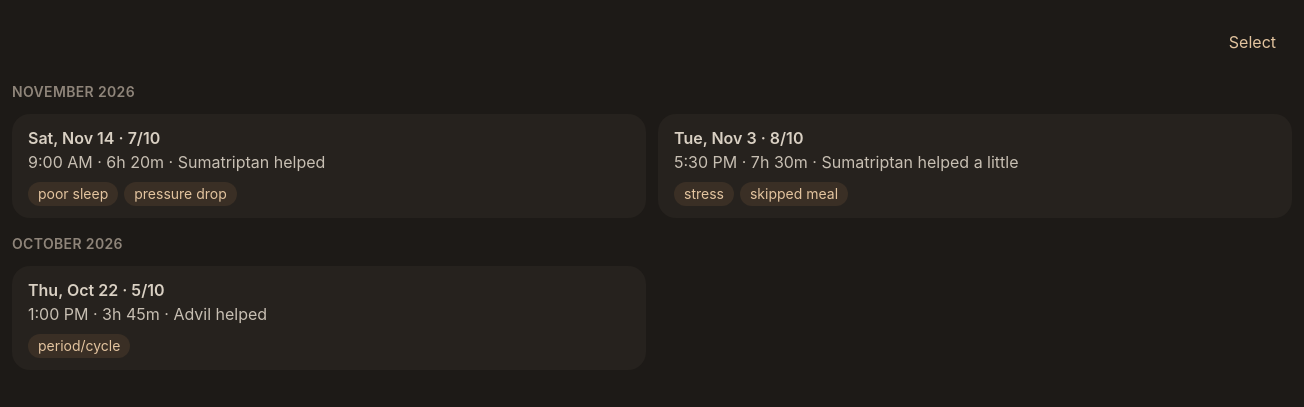
Test: Select mode: tap to tick, Select all, Clear all
Click the button "Select" at (1252, 42), box [1213,18,1292,66]
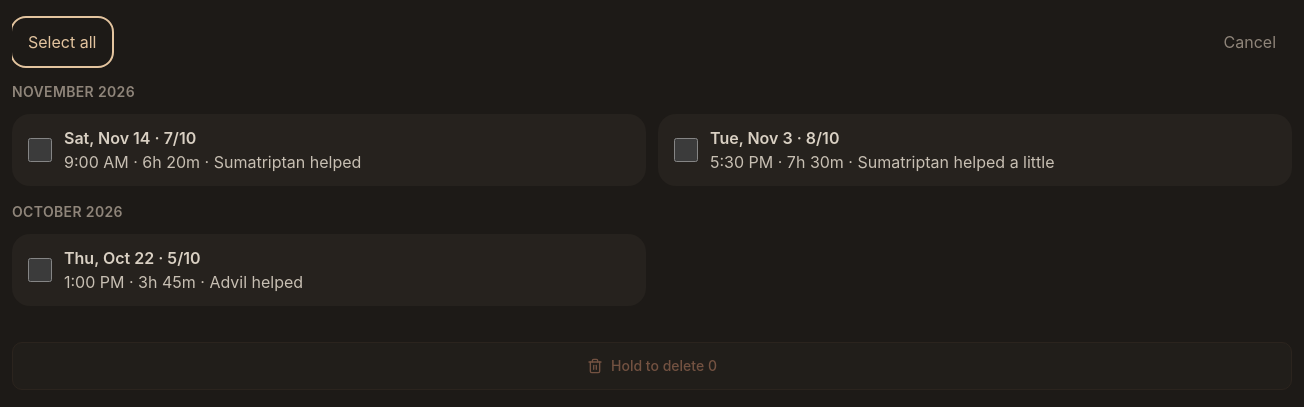
Click the checkbox labelled "Sat, Nov 14 · 7/10 9:00 AM · 6h 20m · Sumatriptan helped" at (40, 150), box [28,138,52,162]
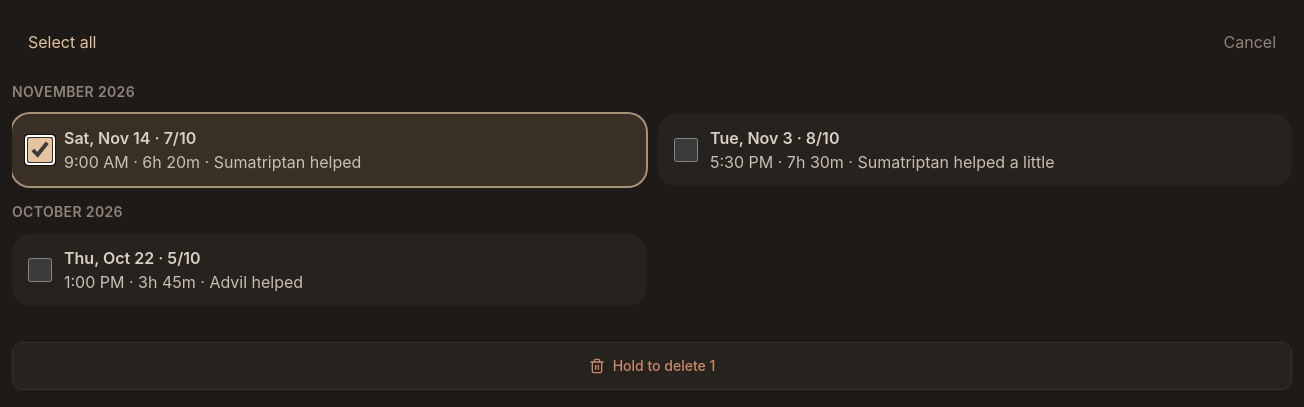
Expected: the checkbox labelled "Sat, Nov 14 · 7/10 9:00 AM · 6h 20m · Sumatriptan helped" is checked, [28,138,52,162]
Expected: the button "Hold to delete 1" is shown, [12,342,1292,390]
Click the button "Select all" at (62, 42), box [12,18,112,66]
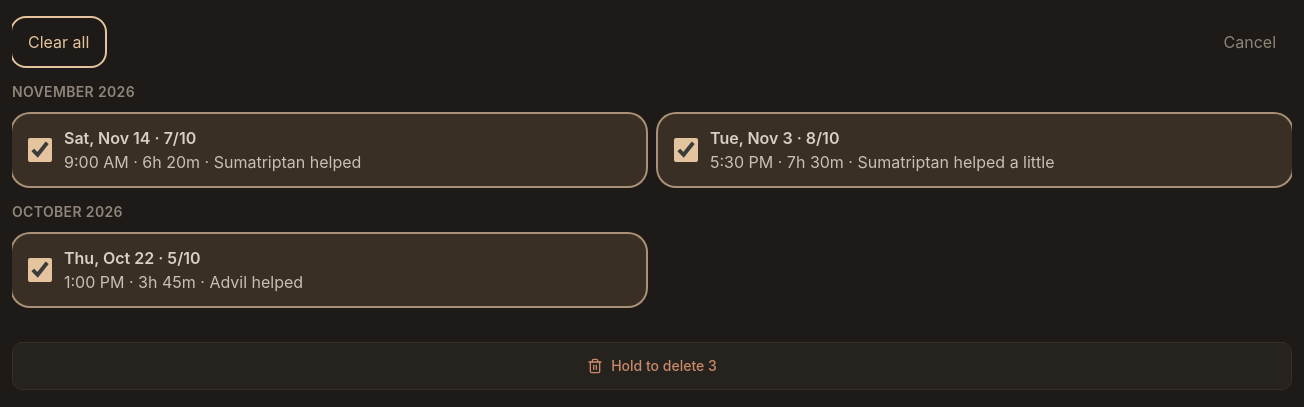
Expected: the checkbox labelled "Sat, Nov 14 · 7/10 9:00 AM · 6h 20m · Sumatriptan helped" is checked, [28,138,52,162]
Expected: the checkbox named "Tue, Nov 3 · 8/10" is checked, [674,138,698,162]
Expected: the checkbox labelled "Thu, Oct 22 · 5/10 1:00 PM · 3h 45m · Advil helped" is checked, [28,258,52,282]
Click the button "Clear all" at (59, 42), box [12,18,105,66]
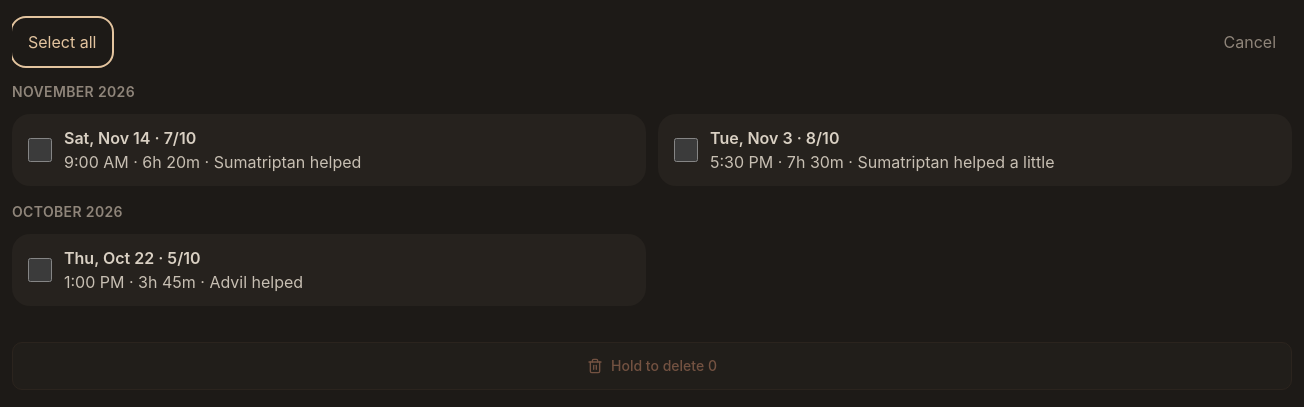
Expected: the checkbox labelled "Sat, Nov 14 · 7/10 9:00 AM · 6h 20m · Sumatriptan helped" is not checked, [28,138,52,162]
Expected: the checkbox named "Tue, Nov 3 · 8/10" is not checked, [674,138,698,162]
Expected: the checkbox labelled "Thu, Oct 22 · 5/10 1:00 PM · 3h 45m · Advil helped" is not checked, [28,258,52,282]
